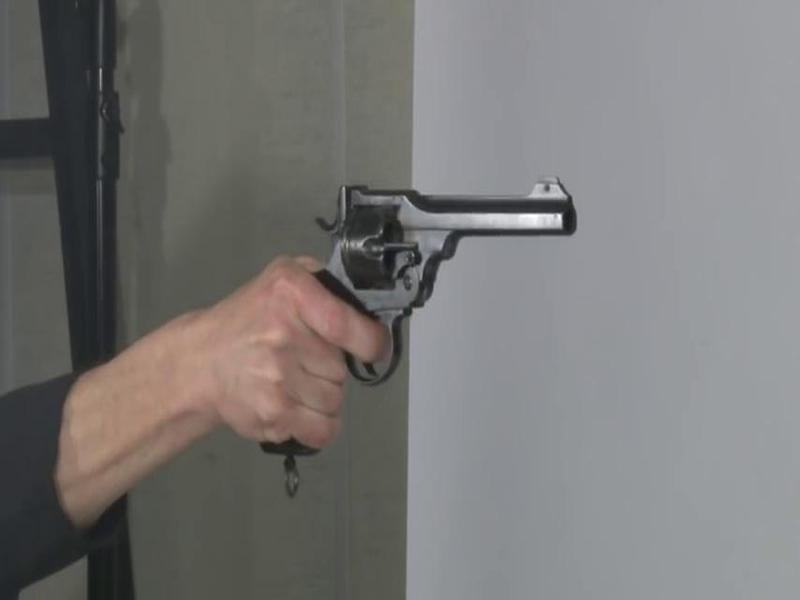Revolver: (248, 136, 589, 416)
